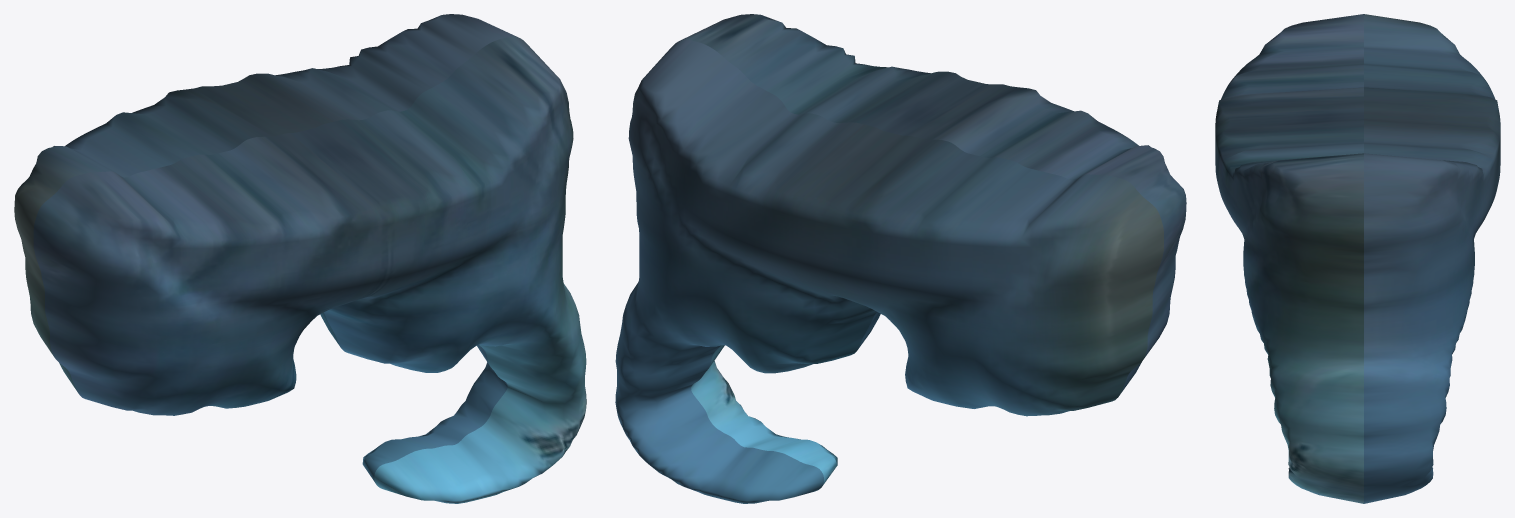
File: short-brox-turquesa-degrade.glb
The picture shows the model from 3 angles, left to right: view 1: azimuth 30°, elevation 25°; view 2: azimuth 150°, elevation 25°; view 3: azimuth 270°, elevation 25°; orthographic projection. The views are drawn at different scales.
Visible parts, largest first — view 1: geometry_0; view 2: geometry_0; view 3: geometry_0.
Boxes of the visible parts, x1,y1,x2,y2 form: geometry_0: (14, 14, 586, 503); geometry_0: (615, 14, 1186, 503); geometry_0: (1215, 14, 1500, 503).
Bounding box in the file's own units: 0.664 × 0.52 × 0.3806.
Materials: 1 (1 with a texture image).
